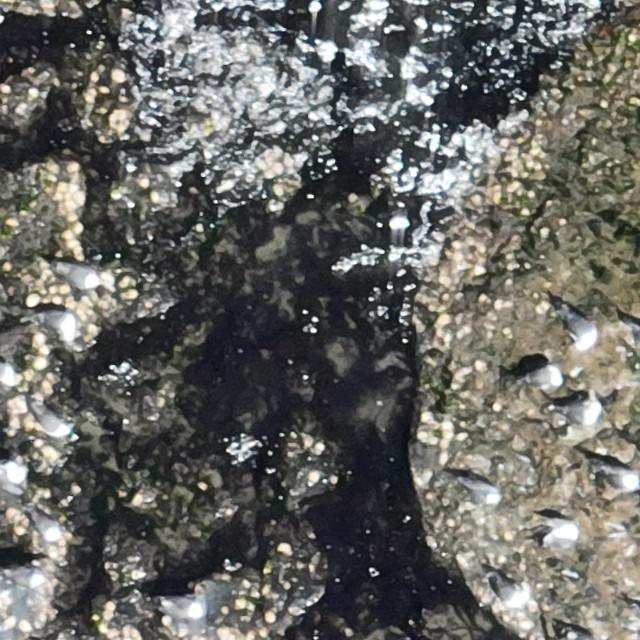umineko: (36, 305, 81, 342), (489, 570, 530, 608), (537, 513, 578, 546), (556, 398, 604, 424), (160, 594, 205, 621), (34, 408, 72, 437), (566, 313, 598, 347), (32, 508, 60, 544), (59, 265, 102, 288), (526, 365, 564, 388), (464, 480, 500, 504), (8, 567, 45, 589), (606, 466, 636, 488), (568, 630, 598, 640)
